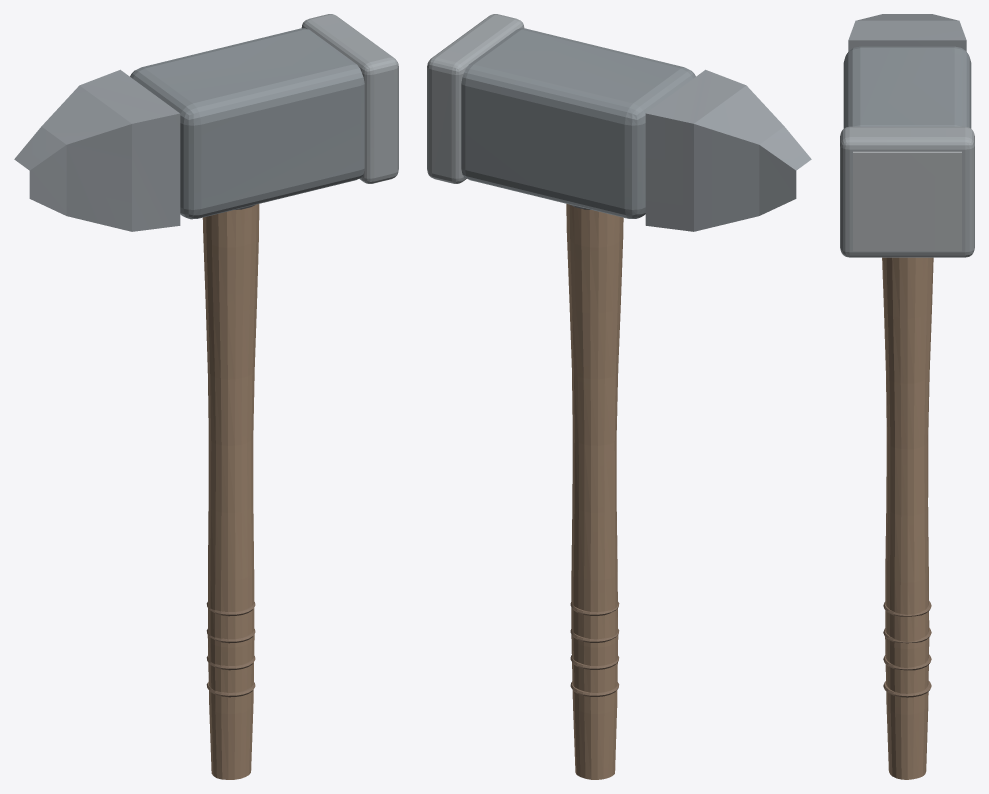
File: smidshamer.glb
The picture shows the model from 3 angles, left to right: view 1: azimuth 30°, elevation 25°; view 2: azimuth 150°, elevation 25°; view 3: azimuth 270°, elevation 25°; orthographic projection.
Visible parts, largest first — view 1: smidshamer; view 2: smidshamer; view 3: smidshamer.
Boxes of the visible parts, <box> form: smidshamer: <box>14,14,398,779</box>; smidshamer: <box>427,14,811,779</box>; smidshamer: <box>840,14,974,779</box>.
Bounding box in the file's own units: 0.337 × 0.65 × 0.114.
